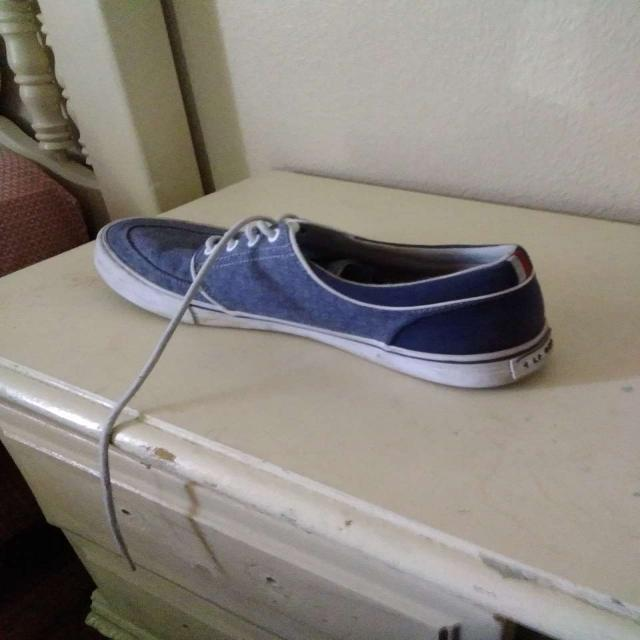shoe: (90, 212, 559, 391)
